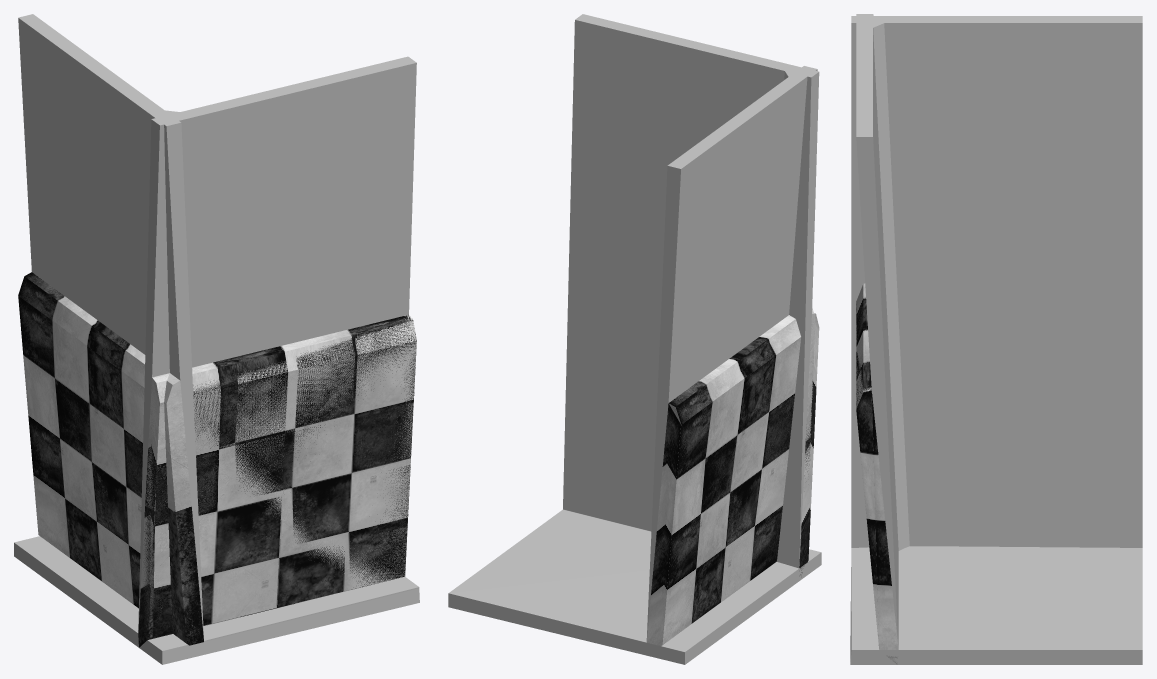
Rendered from building_01_tile_set.obj.
3 renders of one model, left to right at view 1: azimuth 30°, elevation 25°; view 2: azimuth 150°, elevation 25°; view 3: azimuth 270°, elevation 25°, orthographic. The views are drawn at different scales.
Parts seen in each view (by area): view 1: corner_Cube.005, edge_Cube.010, inner_corner_Cube.012, center_Cube.015; view 2: corner_Cube.005, edge_Cube.010, inner_corner_Cube.012, center_Cube.015; view 3: corner_Cube.005, inner_corner_Cube.012, edge_Cube.010, center_Cube.015.
Part boxes in pixels (x1=…): corner_Cube.005: x1=18, y1=14, x2=416, y2=625; edge_Cube.010: x1=14, y1=58, x2=416, y2=641; inner_corner_Cube.012: x1=14, y1=120, x2=419, y2=647; center_Cube.015: x1=14, y1=544, x2=419, y2=664; corner_Cube.005: x1=563, y1=14, x2=808, y2=645; edge_Cube.010: x1=448, y1=14, x2=819, y2=664; inner_corner_Cube.012: x1=448, y1=66, x2=817, y2=664; center_Cube.015: x1=685, y1=549, x2=821, y2=663; corner_Cube.005: x1=856, y1=16, x2=1142, y2=664; inner_corner_Cube.012: x1=851, y1=16, x2=1142, y2=657; edge_Cube.010: x1=856, y1=14, x2=911, y2=664; center_Cube.015: x1=850, y1=567, x2=1036, y2=664.
Bounding box in the file's own units: 2 × 4 × 2.01.
